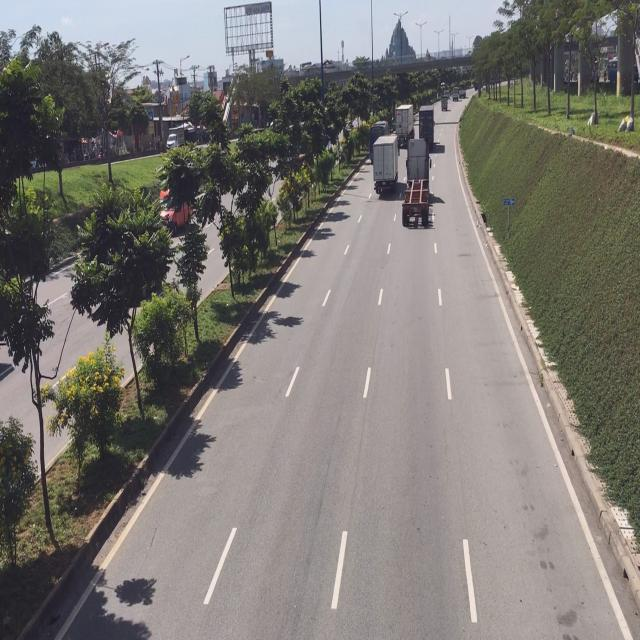truck: (403, 136, 433, 224), (372, 137, 396, 197), (396, 105, 416, 144), (421, 108, 435, 149)
